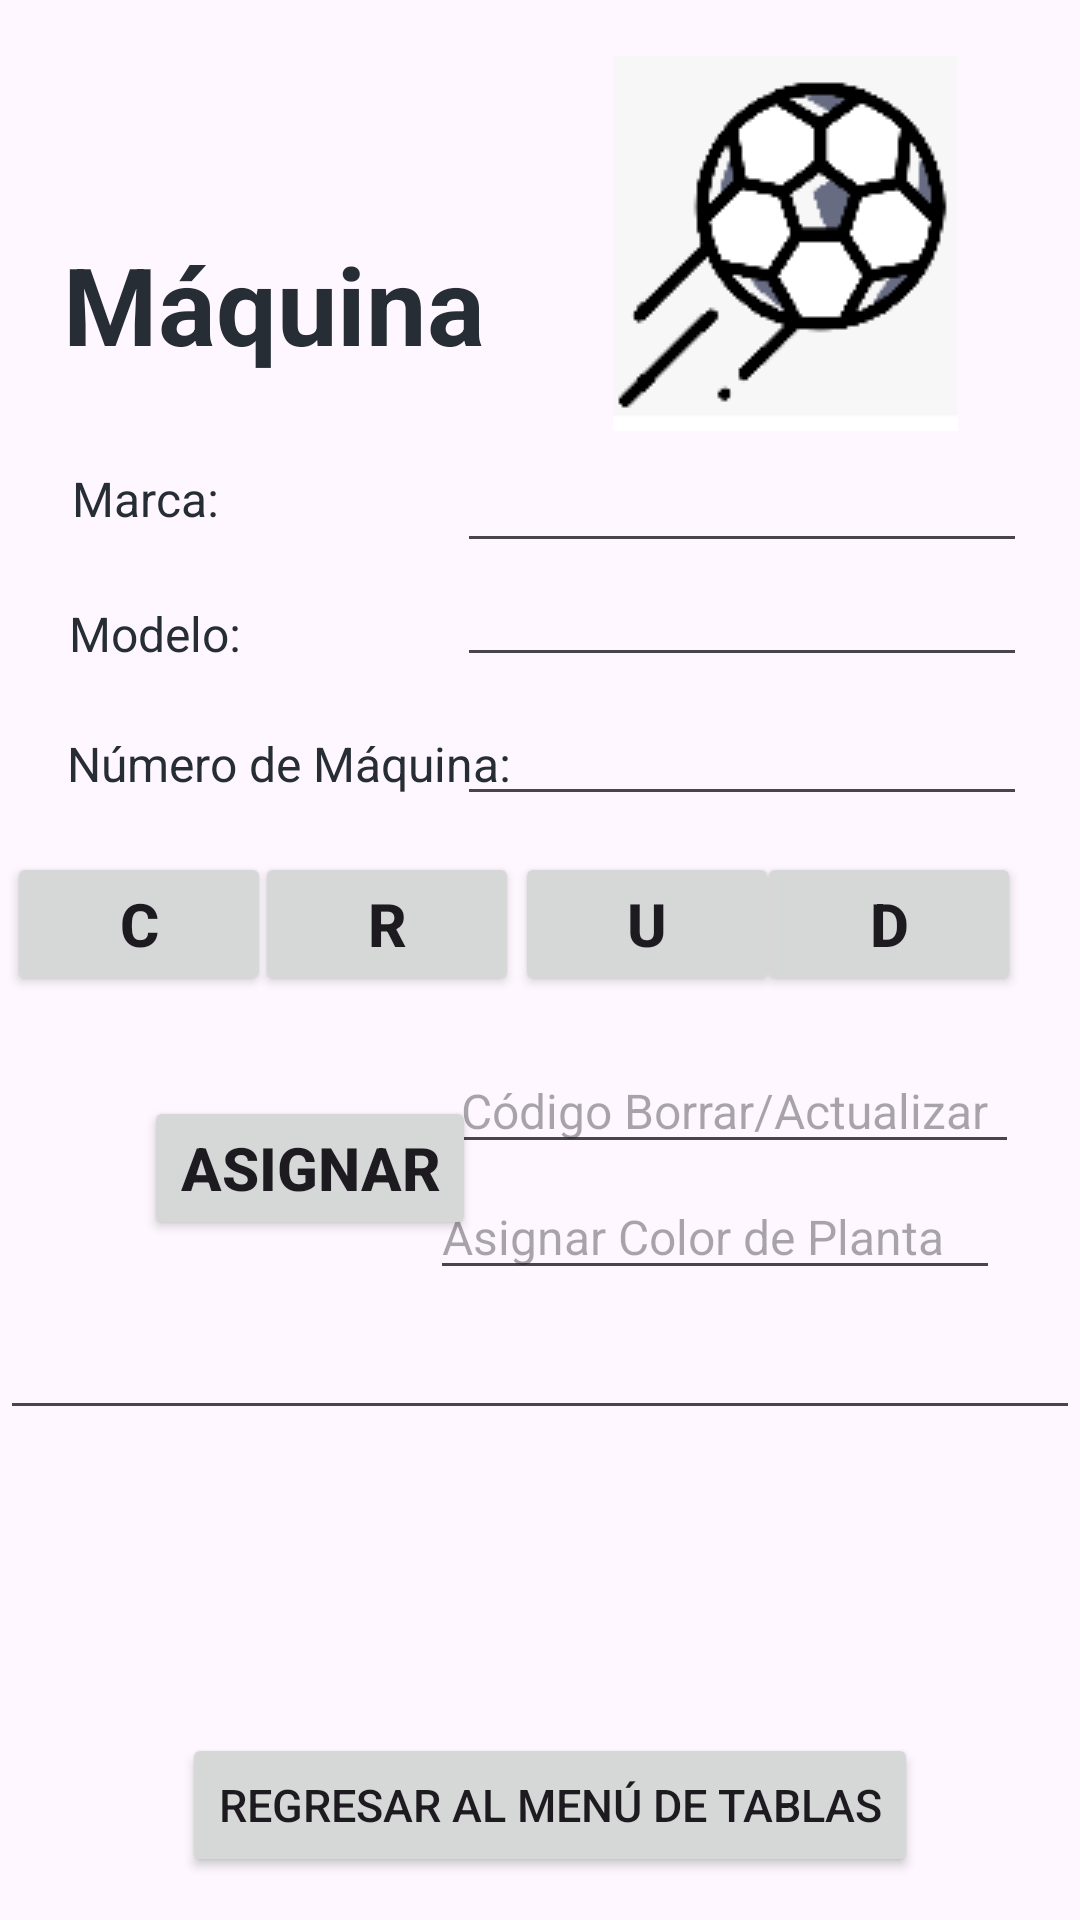

Icons on this 1080x1920 Android screen, each with its box as (x1=x1, y1=y1, x2=x2, y2=y2):
futbolnuevo: (x1=618, y1=82, x2=947, y2=408)
